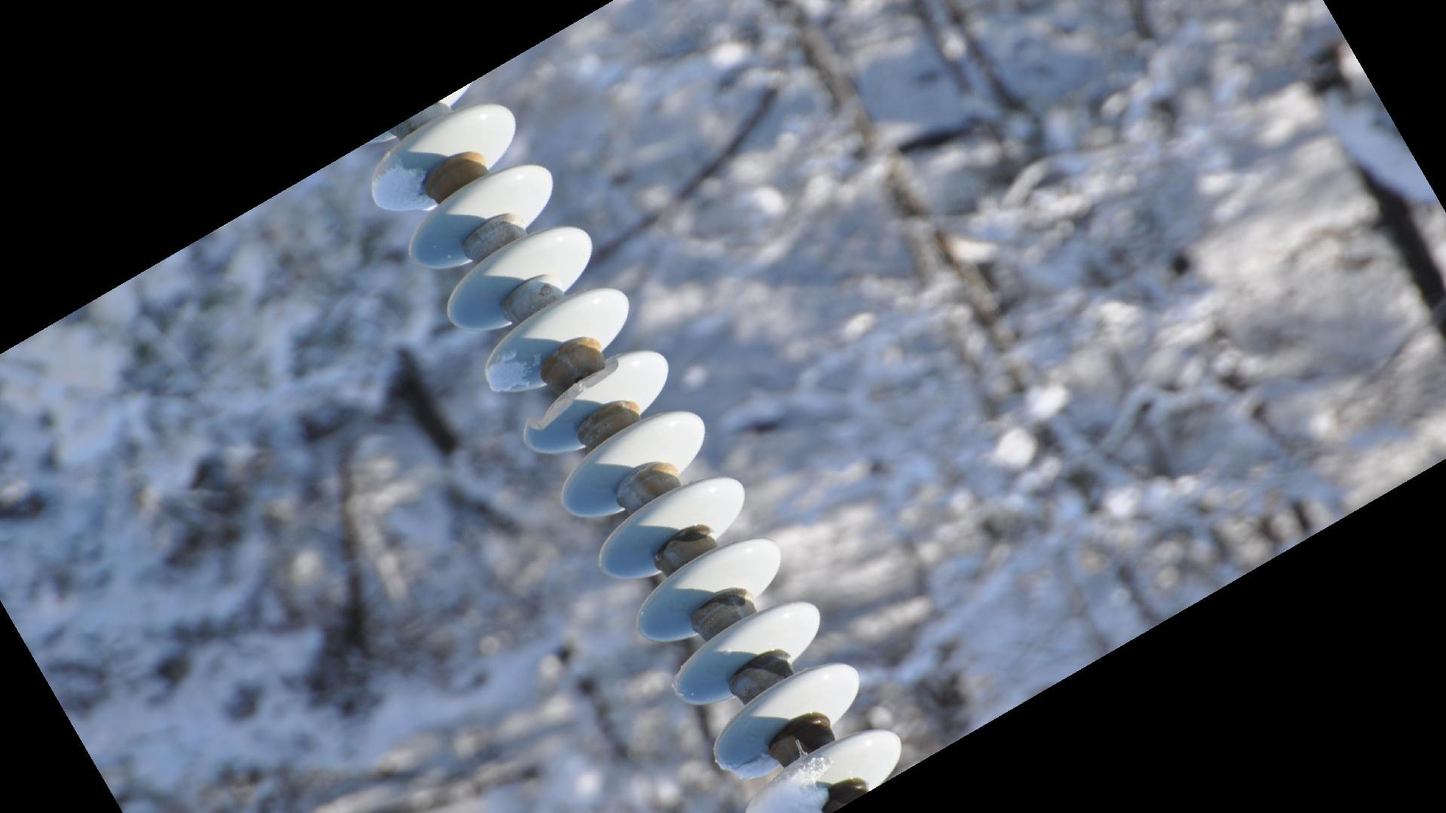insulator: (358, 96, 906, 813)
insulator_breakage: (523, 351, 625, 436)
